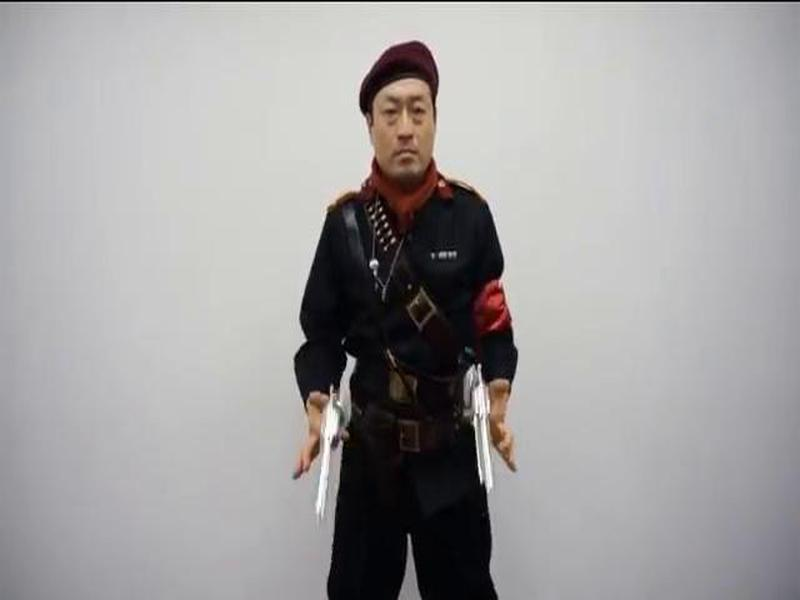Revolver: (438, 348, 517, 507), (287, 375, 362, 526)
